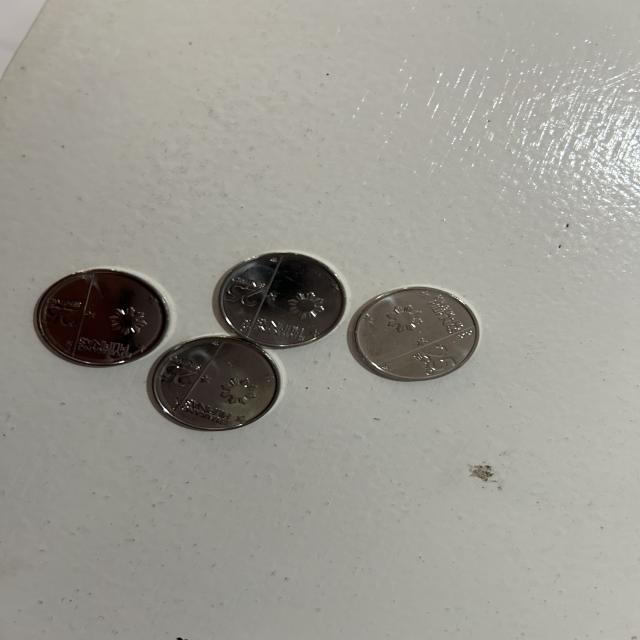25Cent_New_Front: (409, 344, 465, 379), (220, 272, 264, 314), (39, 293, 80, 335), (161, 356, 199, 386)
